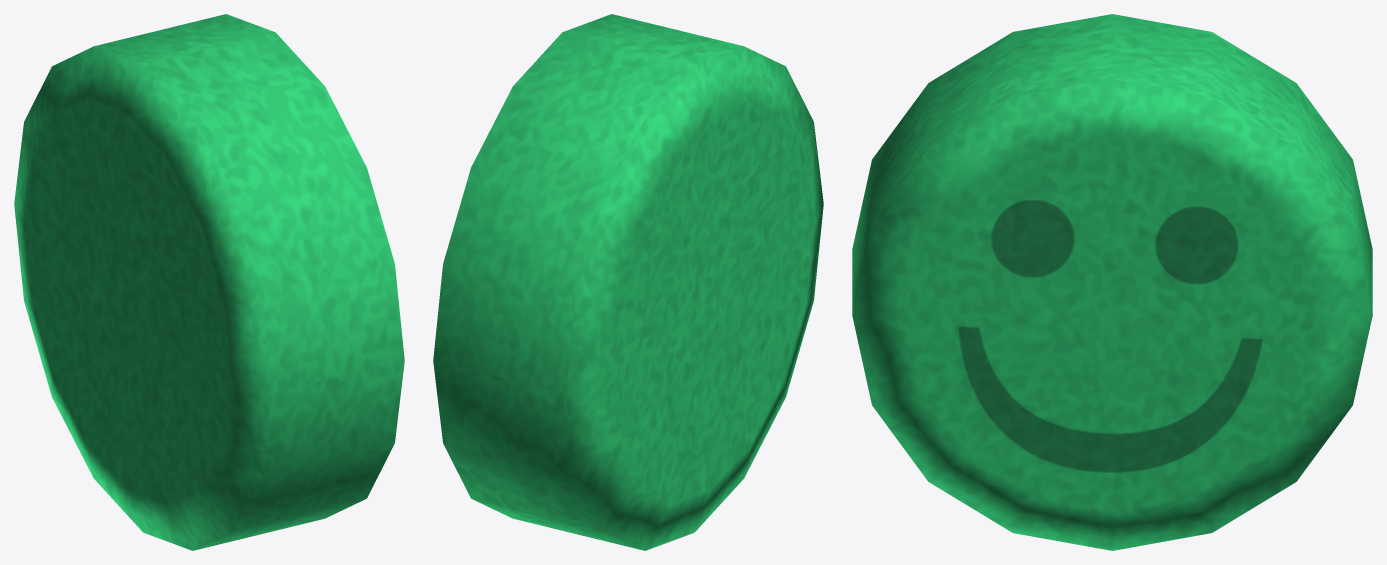
The model's file is PowerUp_01.dae.
3 views of the same model, side by side, from view 1: azimuth 30°, elevation 25°; view 2: azimuth 150°, elevation 25°; view 3: azimuth 270°, elevation 25° (orthographic).
Parts seen in each view (by area): view 1: PowerUp_01_Mesh; view 2: PowerUp_01_Mesh; view 3: PowerUp_01_Mesh.
Boxes of the visible parts, box(x1,y1,x2,y2) form: PowerUp_01_Mesh: box(14, 14, 404, 550); PowerUp_01_Mesh: box(433, 14, 823, 550); PowerUp_01_Mesh: box(852, 14, 1372, 550).
Bounding box in the file's own units: 2.38 × 6.48 × 6.48.
